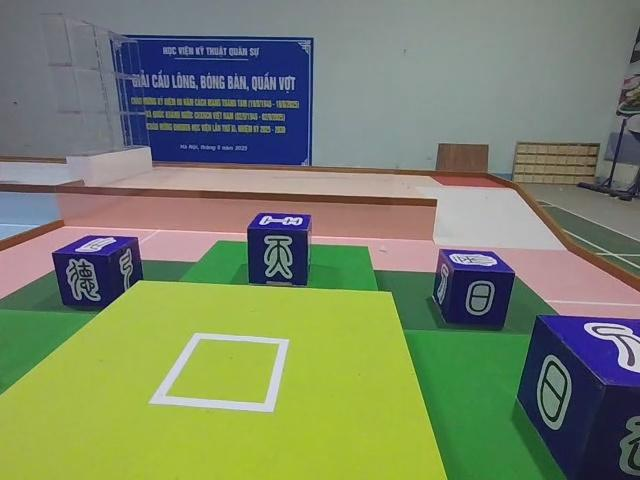R2 Fake Blue: (515, 314, 640, 479), (49, 236, 142, 312), (434, 248, 518, 331), (247, 215, 313, 290)
